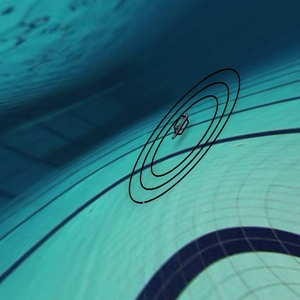circle: (124, 59, 253, 220)
submarine: (167, 111, 199, 142)
